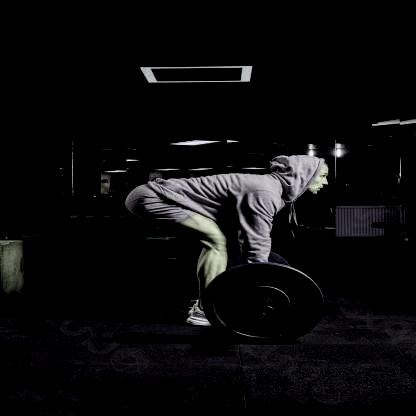Barbell: (255, 306, 275, 320)
